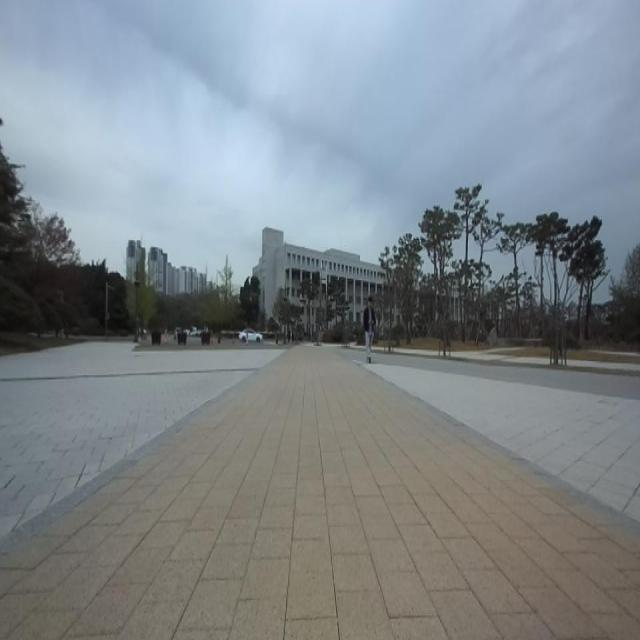sidewalk: (0, 346, 640, 639), (452, 348, 550, 365), (552, 358, 640, 376), (397, 348, 435, 356)
